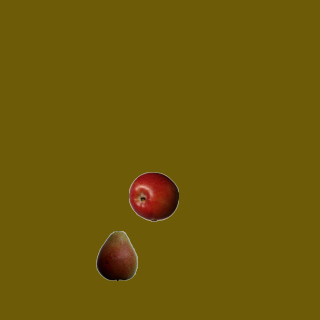Apple Braeburn: (128, 171, 178, 221)
Pear Forelle: (91, 230, 141, 280)
